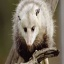opossum: (13, 1, 55, 50)
